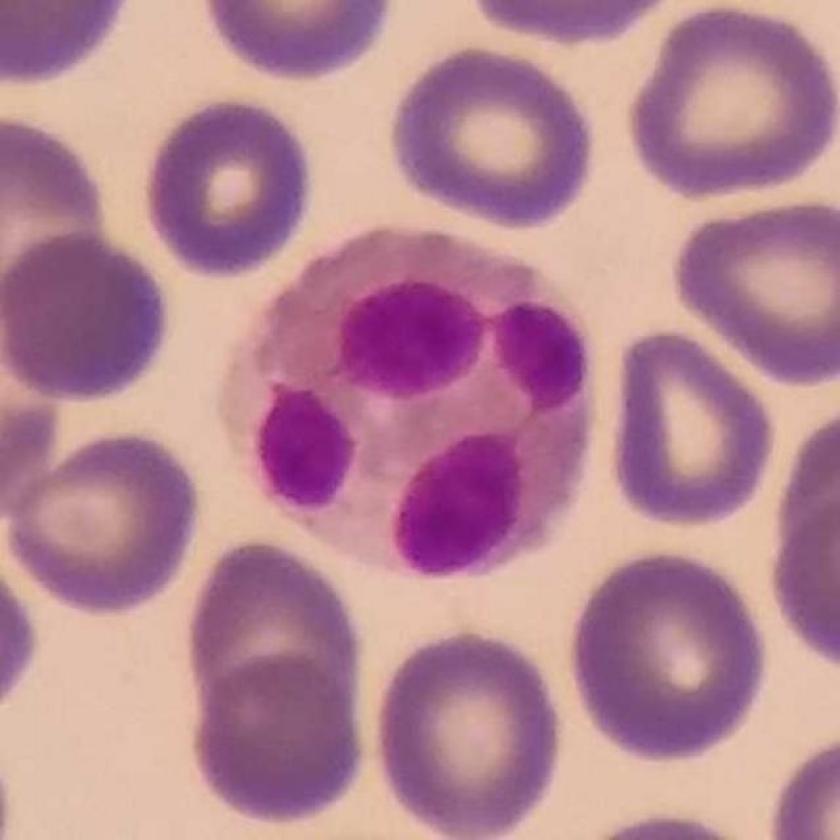eosinophil: (218, 225, 592, 585)
